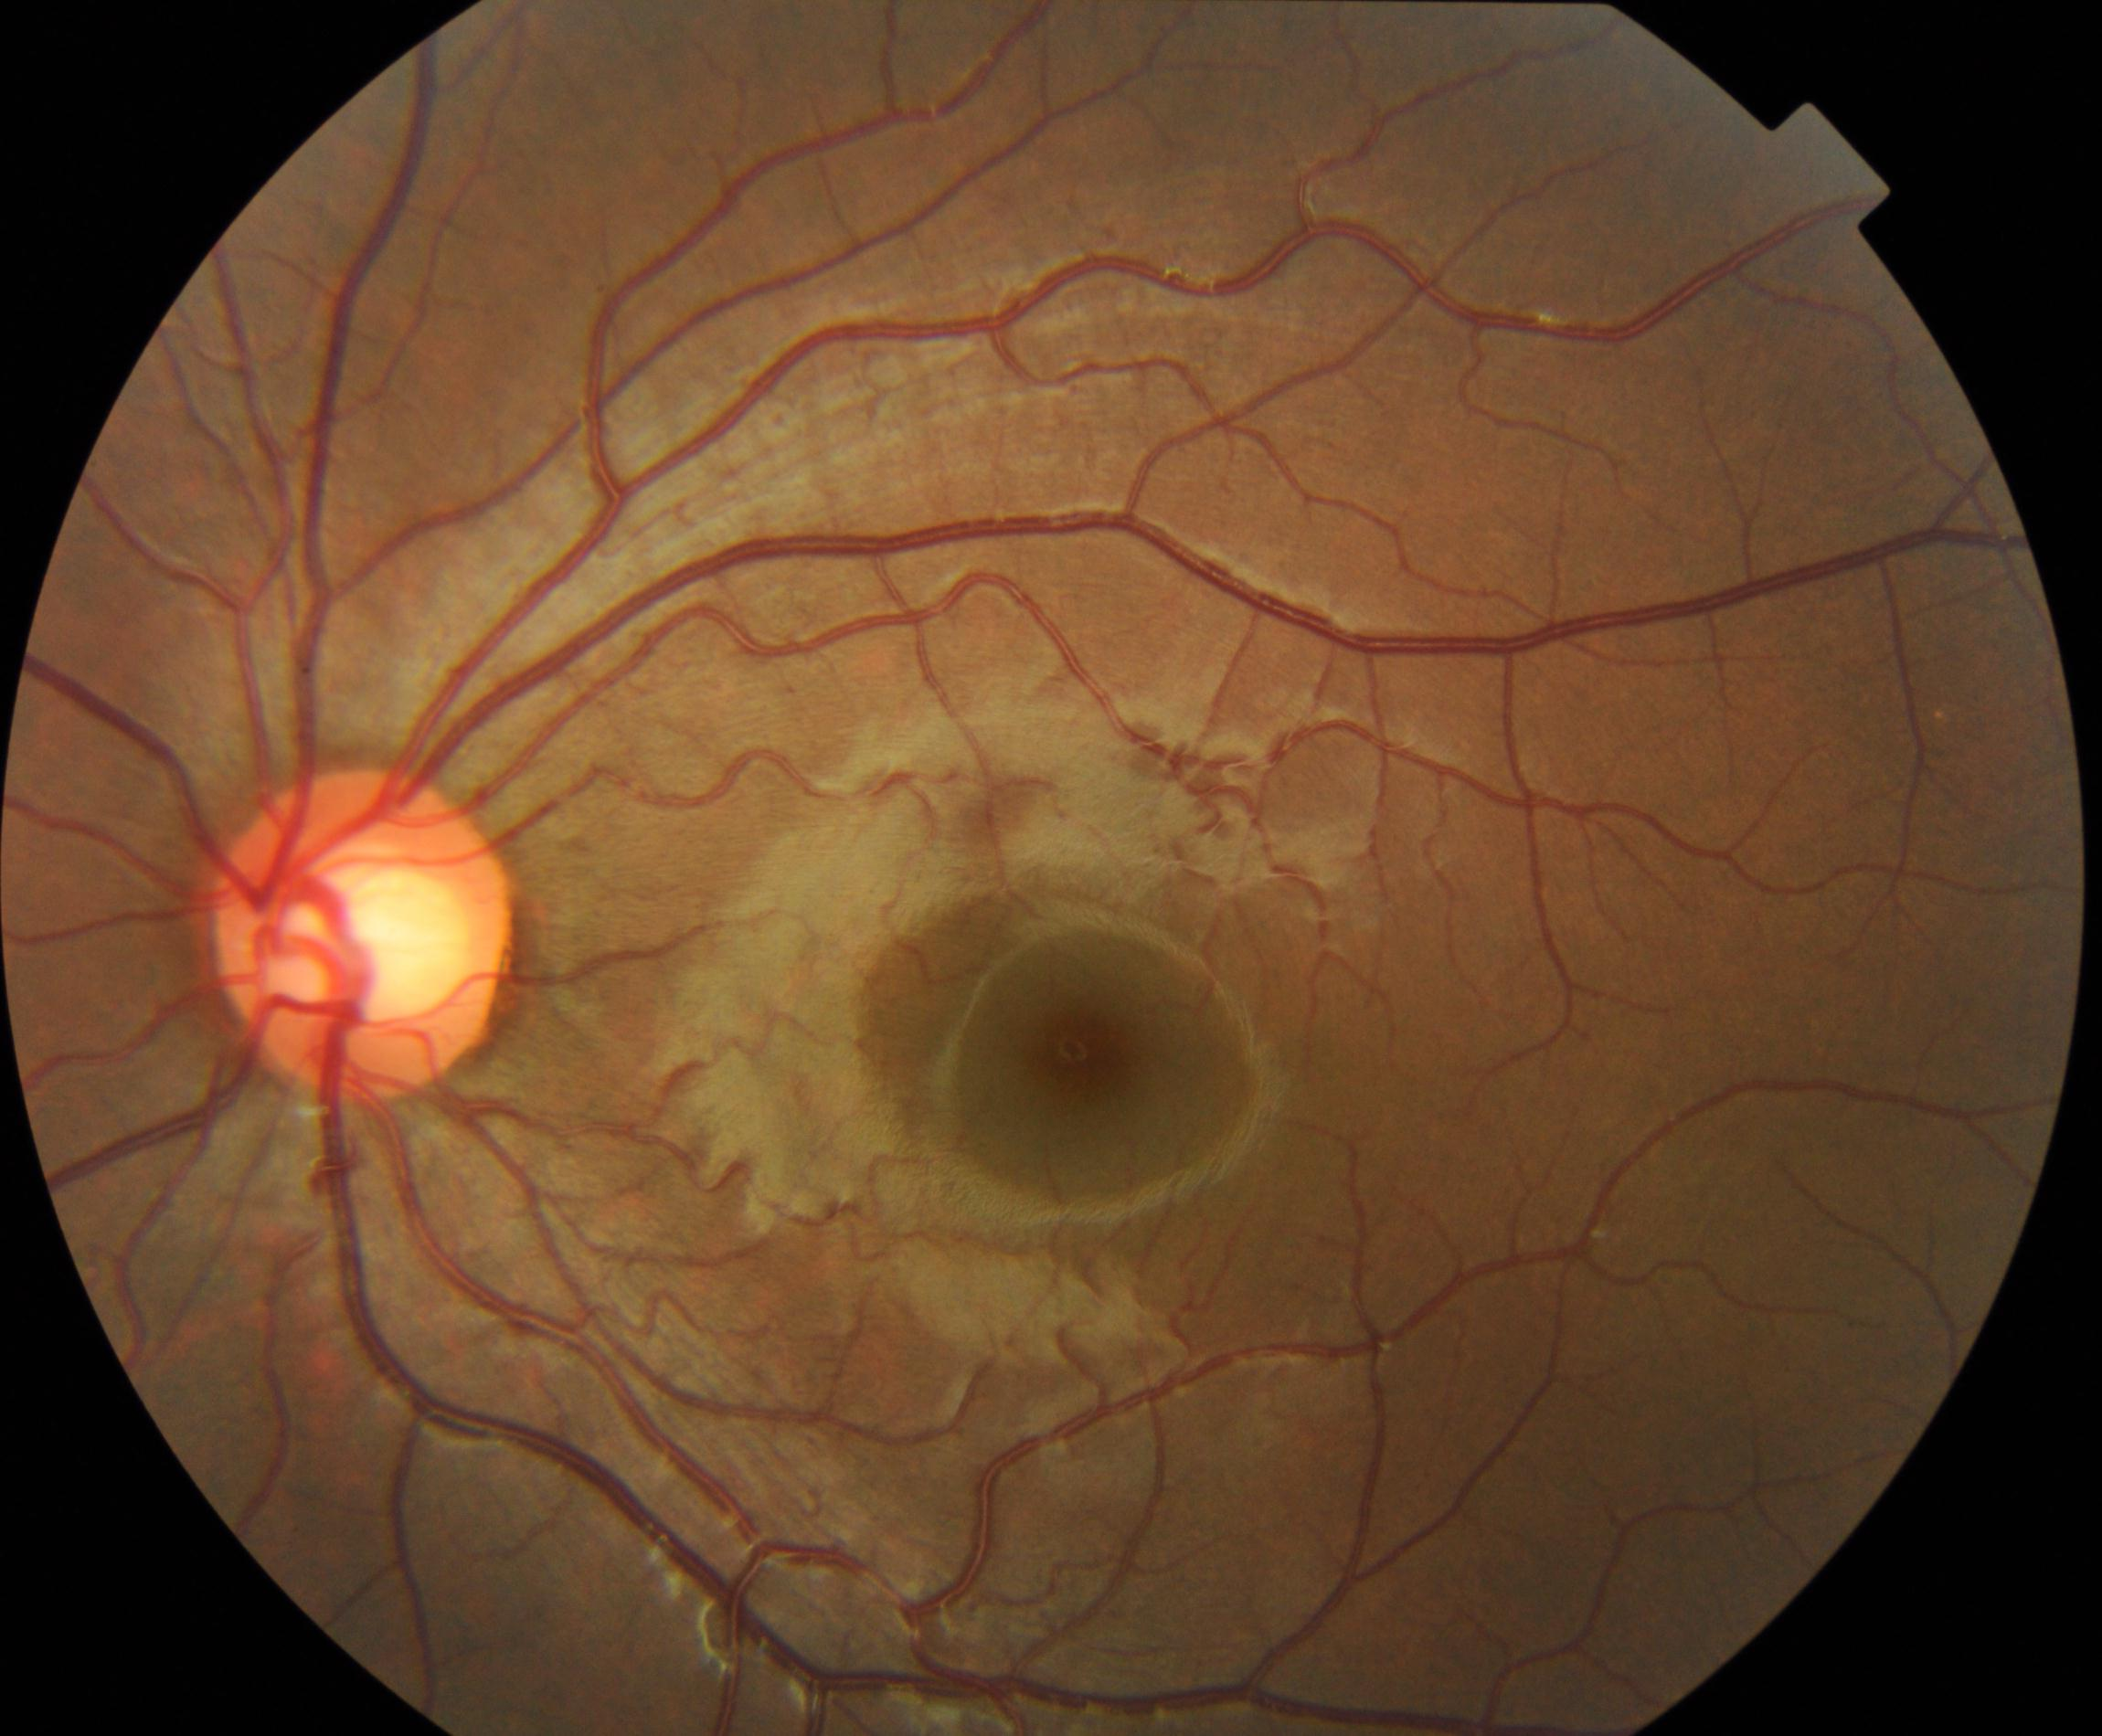Glaucoma section-1: (325, 881, 470, 1036)
Glaucoma section-2: (204, 762, 520, 1108)
